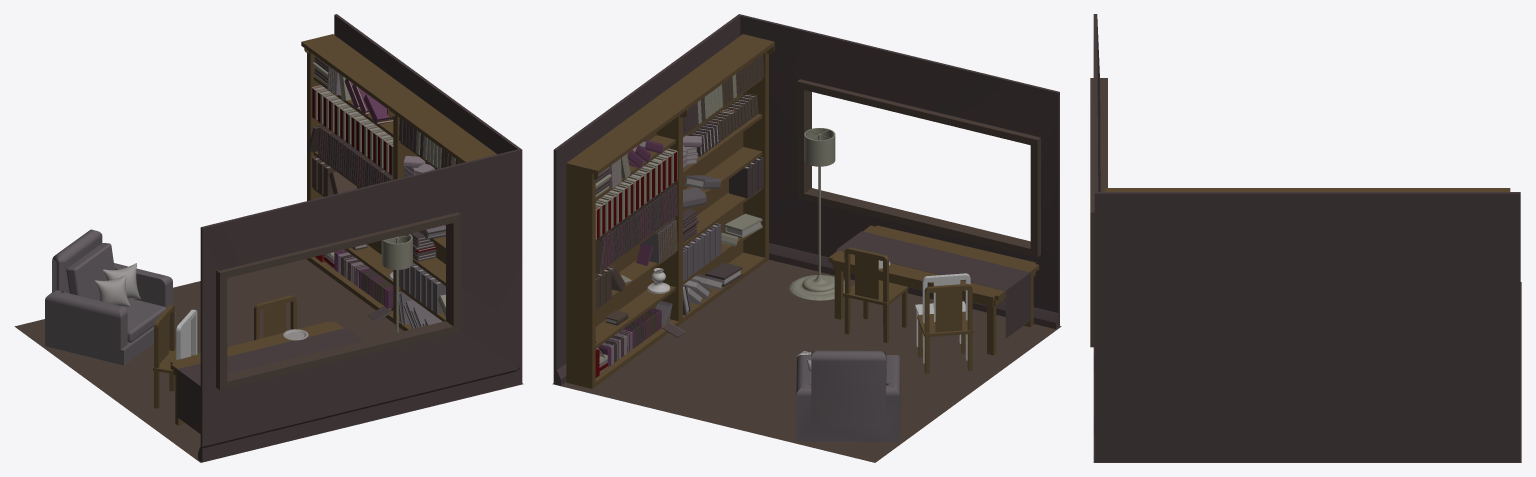
The model's file is scene1_sketchfab.fbx.
3 renders of one model, left to right at view 1: azimuth 30°, elevation 25°; view 2: azimuth 150°, elevation 25°; view 3: azimuth 270°, elevation 25°, orthographic. The views are drawn at different scales.
Visible parts, largest first — view 1: Wall2, polySurface1, floor, single_sofa, window, Wall1, tablecloth, Chair__angled_, table1:Table, Chair_normal, lamp, chair:Chair__angled_; view 2: polySurface1, floor, Wall2, single_sofa, window, Wall1, tablecloth, table1:Table, Chair_normal, Chair__angled_, lamp, chair:Chair__angled_; view 3: Wall1, window, Wall2, polySurface1, floor.
Boxes of the visible parts, x1=… form: Wall2: x1=198, y1=149, x2=522, y2=462; polySurface1: x1=301, y1=34, x2=496, y2=330; floor: x1=14, y1=259, x2=523, y2=462; single_sofa: x1=45, y1=229, x2=176, y2=365; window: x1=216, y1=212, x2=460, y2=390; Wall1: x1=334, y1=14, x2=521, y2=371; tablecloth: x1=177, y1=328, x2=363, y2=433; Chair__angled_: x1=153, y1=305, x2=200, y2=408; table1:Table: x1=170, y1=321, x2=343, y2=425; Chair_normal: x1=254, y1=295, x2=296, y2=340; lamp: x1=381, y1=234, x2=412, y2=332; chair:Chair__angled_: x1=176, y1=309, x2=197, y2=359; polySurface1: x1=566, y1=34, x2=774, y2=388; floor: x1=552, y1=259, x2=1061, y2=462; Wall2: x1=739, y1=14, x2=1059, y2=329; single_sofa: x1=796, y1=350, x2=900, y2=441; window: x1=797, y1=79, x2=1040, y2=257; Wall1: x1=553, y1=14, x2=740, y2=385; tablecloth: x1=836, y1=231, x2=1030, y2=338; table1:Table: x1=828, y1=225, x2=1039, y2=355; Chair_normal: x1=843, y1=247, x2=908, y2=342; Chair__angled_: x1=917, y1=283, x2=973, y2=373; lamp: x1=789, y1=128, x2=844, y2=301; chair:Chair__angled_: x1=915, y1=273, x2=970, y2=363; Wall1: x1=1095, y1=192, x2=1520, y2=462; window: x1=1090, y1=78, x2=1107, y2=347; Wall2: x1=1093, y1=14, x2=1100, y2=462; polySurface1: x1=1105, y1=188, x2=1510, y2=191; floor: x1=1093, y1=282, x2=1521, y2=462.
Size of the model in its own units: 24.12 by 16.78 by 24.31.
